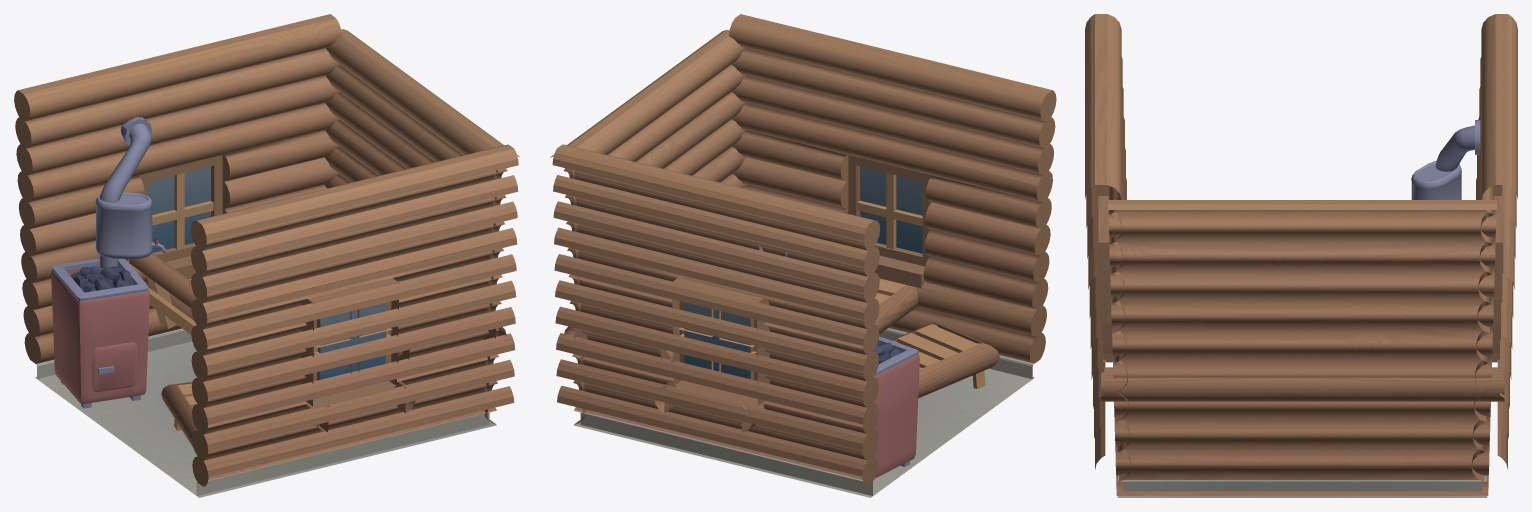
The model's file is SaunaInside.fbx.
The picture shows the model from 3 angles, left to right: view 1: azimuth 30°, elevation 25°; view 2: azimuth 150°, elevation 25°; view 3: azimuth 270°, elevation 25°; orthographic projection. The views are drawn at different scales.
Parts seen in each view (by area): view 1: SM_SaunaInside; view 2: SM_SaunaInside; view 3: SM_SaunaInside.
Part boxes in pixels (left/top/right/bottom): SM_SaunaInside: left=14, top=14, right=519, bottom=497; SM_SaunaInside: left=550, top=14, right=1056, bottom=497; SM_SaunaInside: left=1085, top=14, right=1517, bottom=497.
Size of the model in its own units: 415 by 349 by 427.
